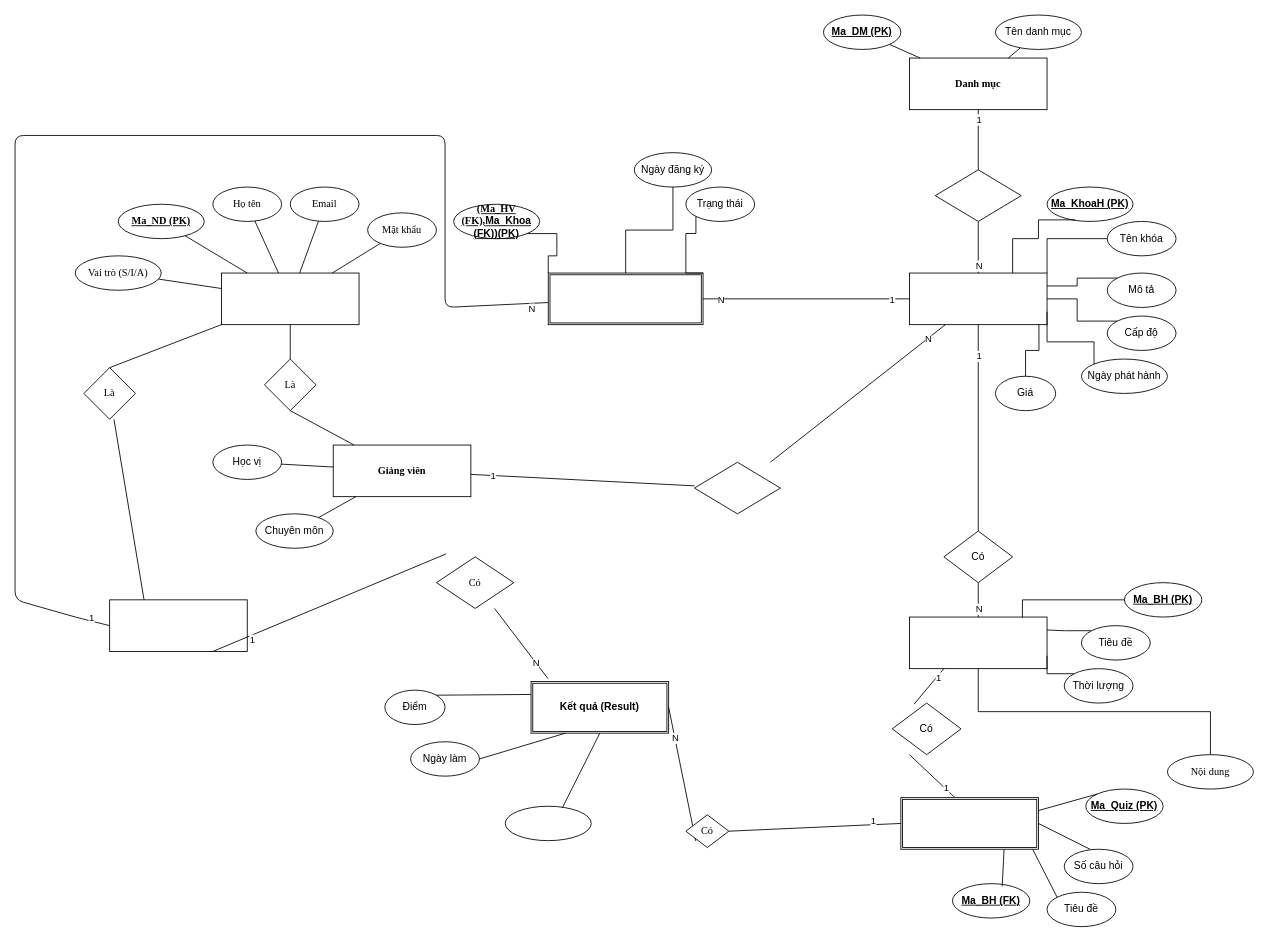
This 1269x942 diagram has some shape labels left out. Here are the shapes that lost their labels. From the top down, the box of each, then its label:
(934, 169, 1021, 221): Thuộc về
(221, 272, 359, 325): Người dùng (User)
(547, 272, 703, 325): Đăng ký học (Enrollment)
(909, 272, 1047, 325): Khóa học
(694, 461, 780, 514): Dạy
(109, 599, 247, 651): Sinh viên
(909, 616, 1047, 669): Bài học (Lesson)
(504, 805, 591, 841): (Ma_HV (FK),MA_QUIZ (FK))(PK)
(900, 797, 1038, 849): Bài Quiz
